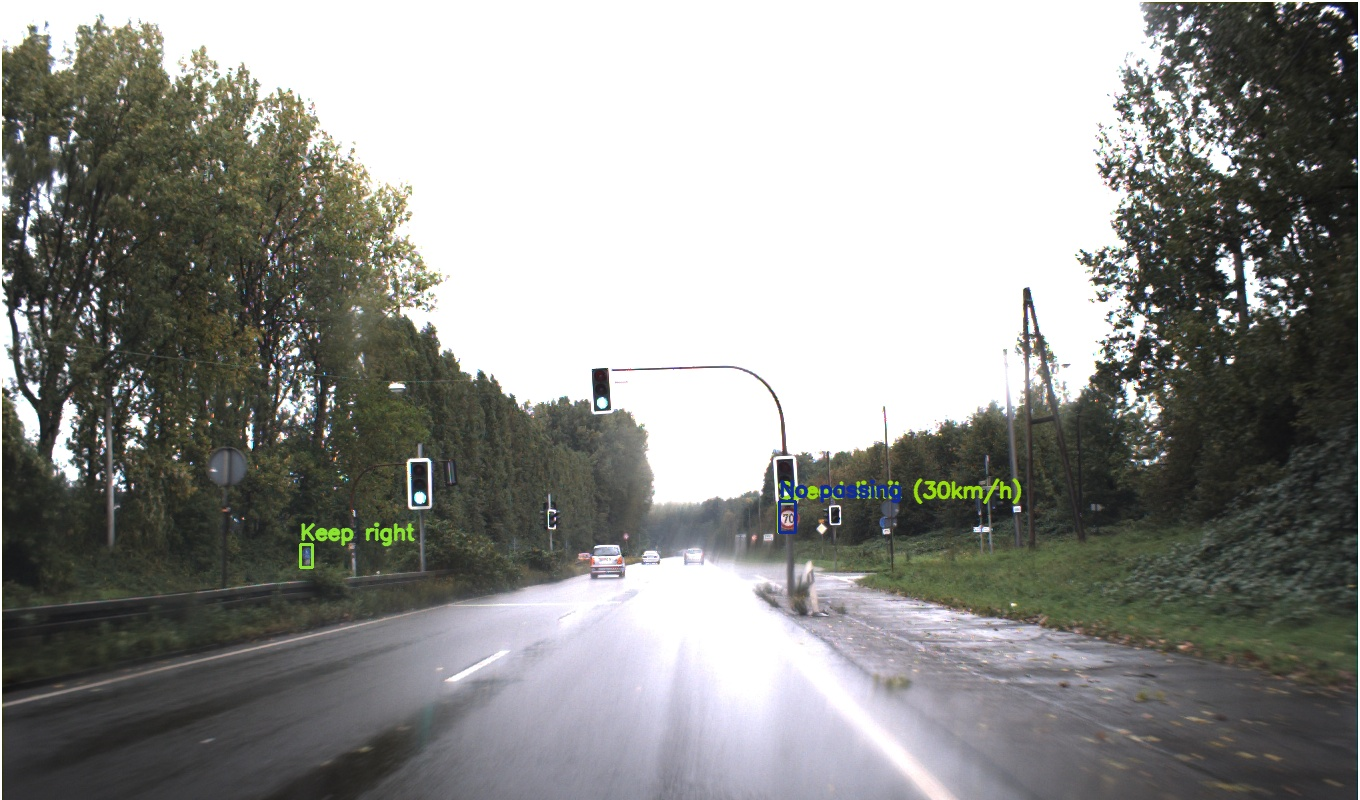Yield: (966, 428, 1007, 464)
